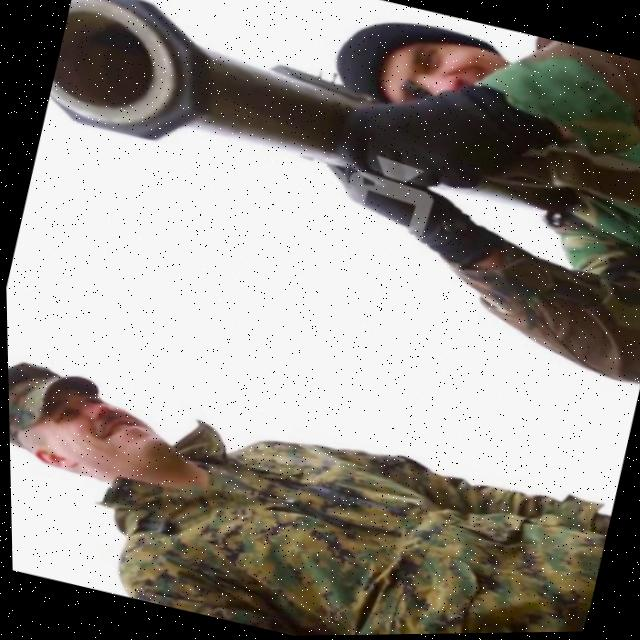rocket: (35, 0, 380, 213)
